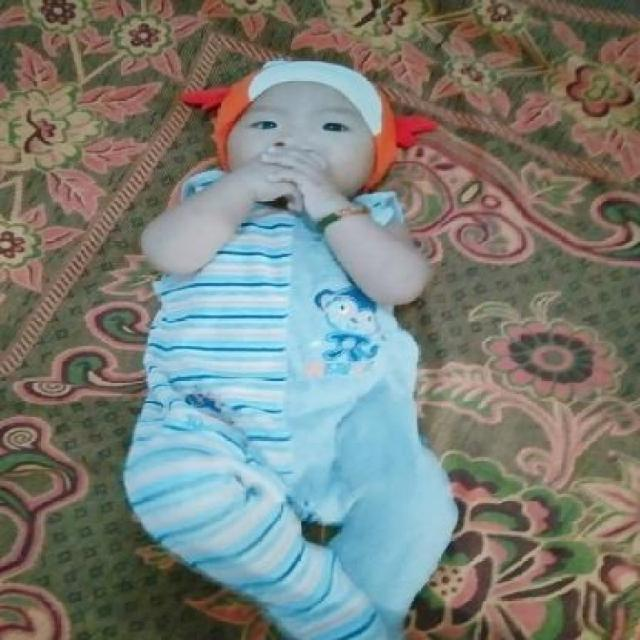baby: (119, 56, 458, 638)
